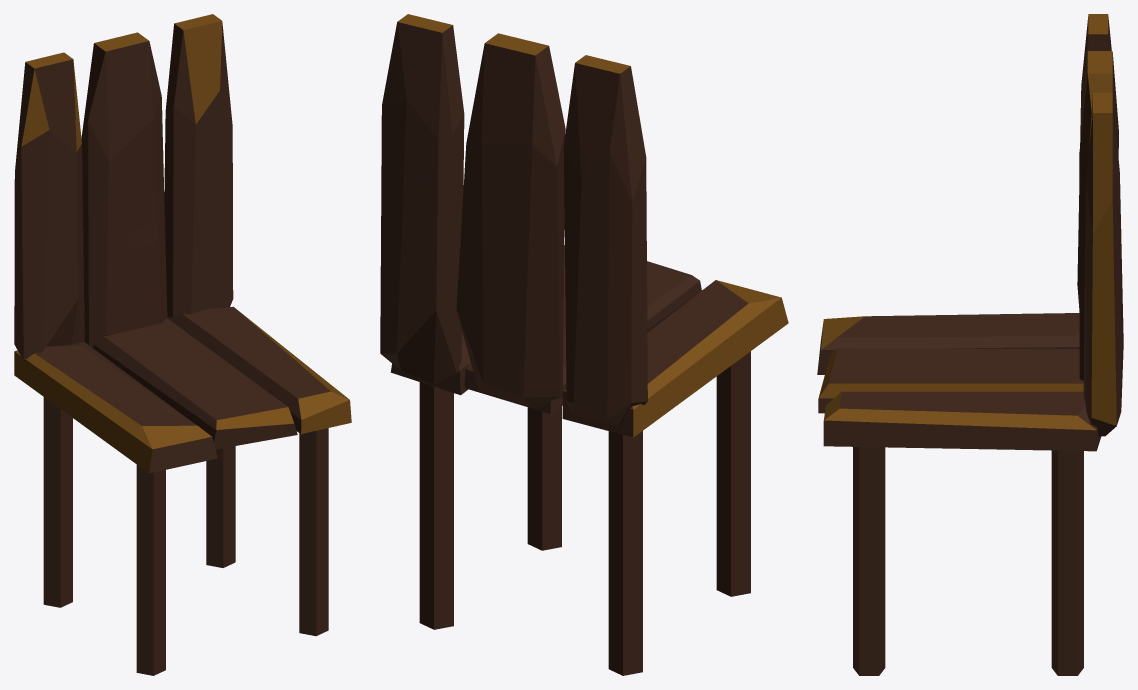
Rendered from Chair.obj.
3 renders of one model, left to right at view 1: azimuth 30°, elevation 25°; view 2: azimuth 150°, elevation 25°; view 3: azimuth 270°, elevation 25°, orthographic. The views are drawn at different scales.
Parts seen in each view (by area): view 1: Cube.009; view 2: Cube.009; view 3: Cube.009.
Boxes of the visible parts, x1,y1,x2,y2 form: Cube.009: (14, 14, 351, 675); Cube.009: (380, 14, 788, 675); Cube.009: (817, 14, 1123, 675).
Bounding box in the file's own units: 1.35 × 3.16 × 1.55.
